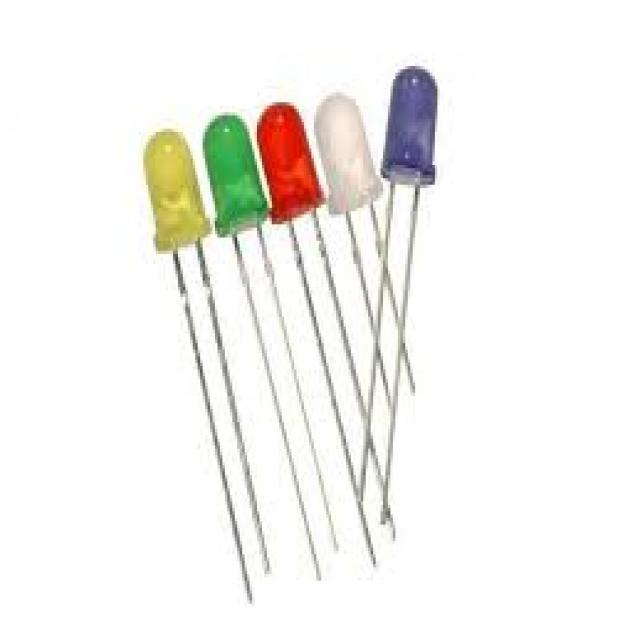Led: (145, 131, 239, 430), (204, 115, 268, 271), (315, 92, 381, 219), (382, 68, 438, 211), (258, 102, 322, 224)
